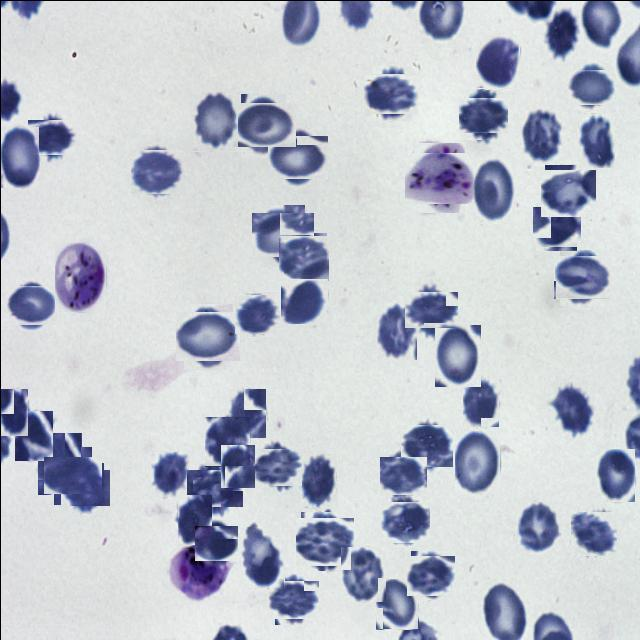difficult: (54, 242, 106, 312)
red blood cell: (178, 306, 236, 364), (235, 98, 290, 152), (454, 430, 500, 494), (254, 208, 308, 262), (471, 156, 515, 222), (434, 324, 480, 386), (298, 514, 350, 568), (192, 91, 238, 151), (240, 526, 284, 588), (37, 432, 81, 494), (272, 130, 324, 182), (542, 166, 593, 218), (340, 546, 386, 602), (556, 252, 606, 302), (514, 501, 560, 555), (0, 126, 39, 188), (376, 302, 417, 360), (475, 34, 519, 88), (366, 68, 414, 116), (132, 146, 180, 194), (280, 234, 328, 282), (48, 451, 96, 499), (204, 416, 250, 466), (520, 108, 562, 162), (402, 421, 449, 469), (190, 464, 238, 511), (375, 578, 418, 629), (551, 382, 593, 434), (382, 498, 428, 544), (280, 278, 326, 324), (298, 453, 336, 508), (570, 511, 616, 556), (595, 448, 634, 501), (578, 113, 615, 168), (408, 287, 453, 332), (8, 282, 52, 327), (542, 6, 578, 60), (271, 576, 315, 620), (408, 552, 452, 596), (534, 204, 578, 248), (228, 388, 266, 438), (14, 410, 52, 460), (462, 377, 499, 427), (381, 454, 424, 497), (150, 451, 190, 497), (235, 292, 278, 334), (64, 465, 106, 508), (461, 93, 504, 135), (256, 446, 298, 488), (31, 116, 72, 158), (177, 494, 211, 544), (570, 66, 611, 106), (196, 522, 236, 562), (220, 444, 255, 488), (0, 388, 28, 436)
trophozoite: (408, 147, 469, 207), (167, 548, 224, 602)
